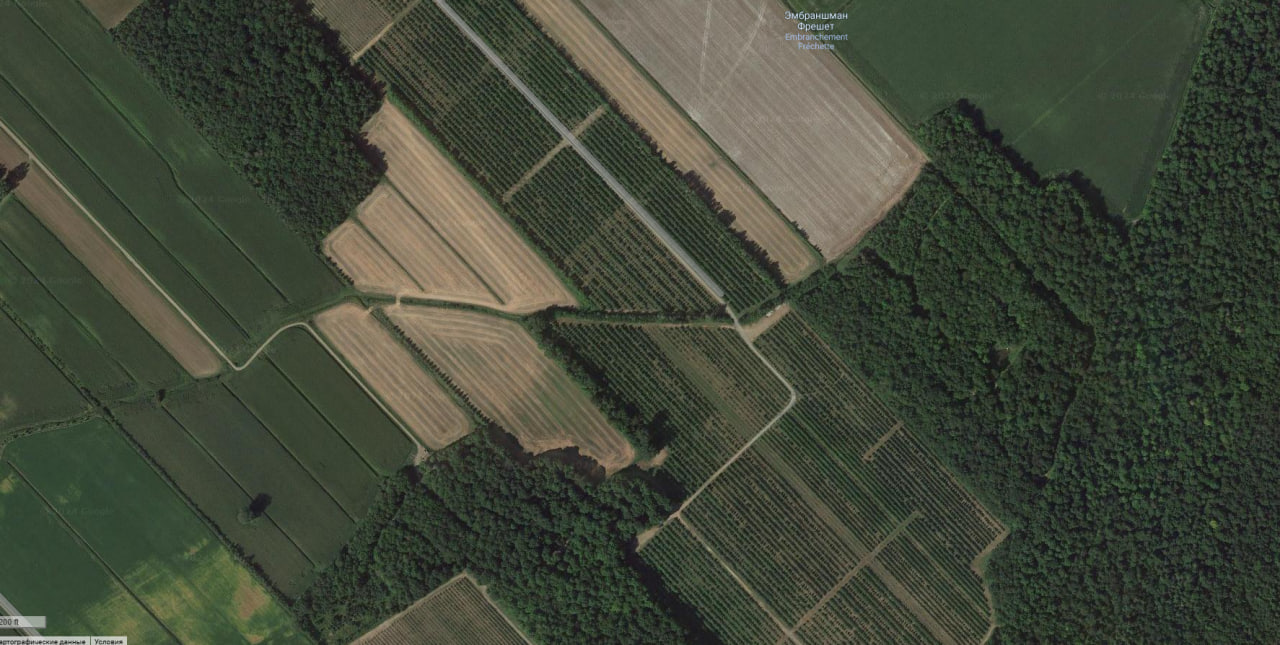Sown field: (558, 308, 1005, 645), (837, 0, 1210, 218), (5, 418, 307, 645), (579, 110, 777, 310), (113, 402, 312, 596), (363, 0, 559, 196), (505, 147, 717, 312), (166, 385, 353, 566), (227, 359, 377, 519), (266, 328, 413, 475), (450, 0, 601, 125), (352, 574, 530, 645), (338, 514, 351, 544), (360, 492, 368, 511), (365, 478, 375, 492), (358, 502, 368, 515), (316, 559, 328, 566), (282, 611, 288, 619), (401, 434, 405, 440), (802, 0, 804, 8), (339, 541, 344, 544), (611, 196, 615, 198), (370, 472, 373, 474), (442, 16, 444, 18)
field: (584, 0, 924, 260), (521, 0, 820, 281), (365, 100, 577, 313), (385, 305, 634, 473), (313, 303, 472, 450), (357, 184, 498, 306), (323, 219, 422, 295), (312, 0, 392, 53), (482, 285, 491, 300), (922, 158, 924, 165), (357, 281, 359, 285)
